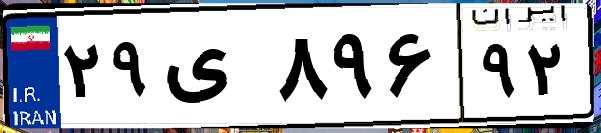2: (57, 26, 110, 100), (525, 38, 570, 115)
6: (385, 28, 445, 110)
8: (270, 28, 330, 110)
9: (330, 28, 385, 110), (475, 38, 525, 113), (110, 28, 158, 98)
ی: (158, 20, 270, 120)
